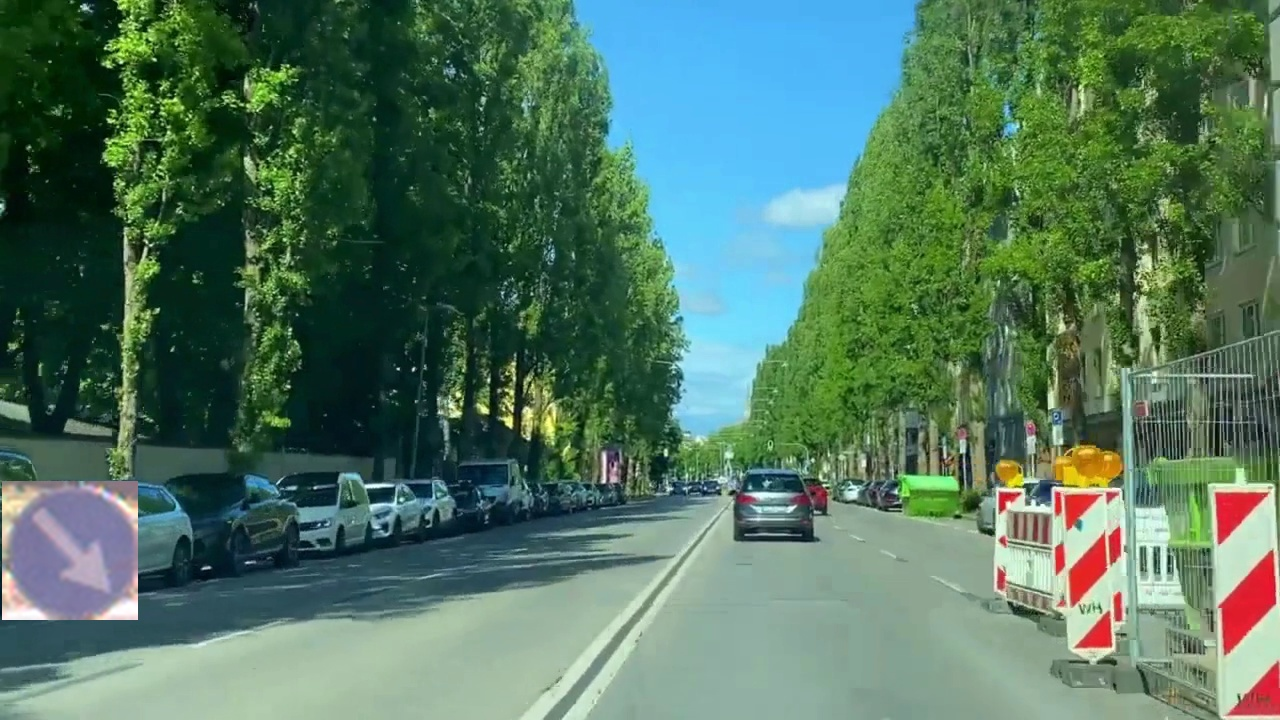Keep right: (2, 481, 138, 620)
